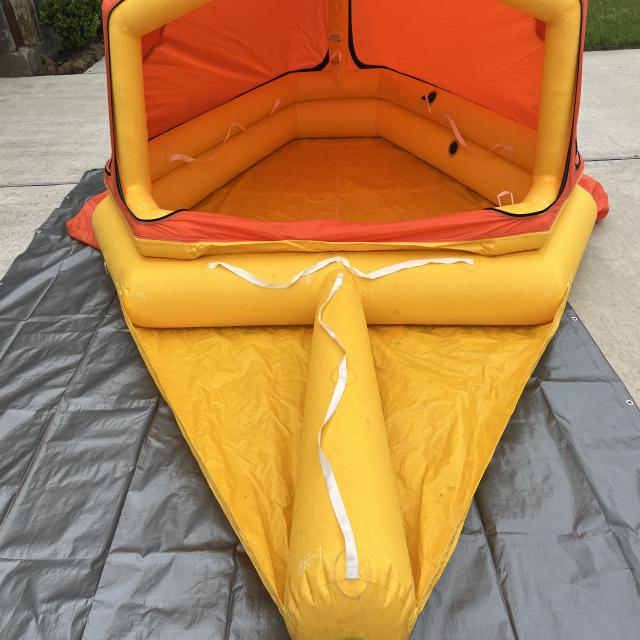Multi-person_life_raft: (65, 1, 611, 638)
